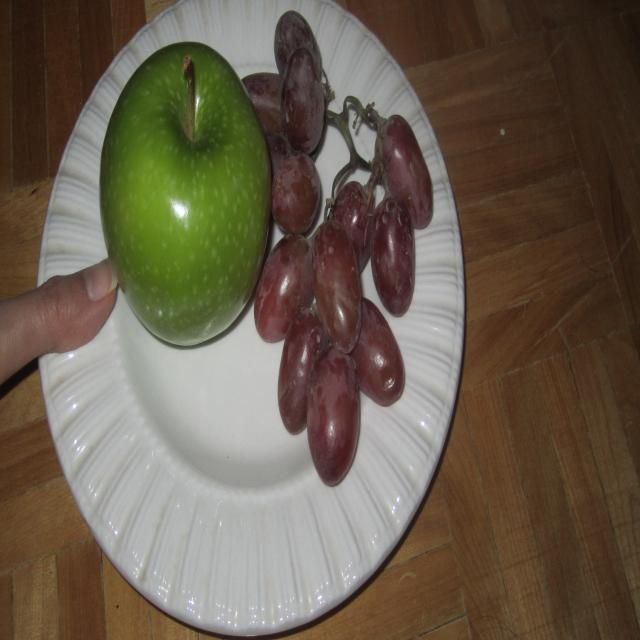Apple: (96, 36, 275, 361)
Finger: (38, 255, 124, 364)
Grapes: (272, 7, 439, 504)
